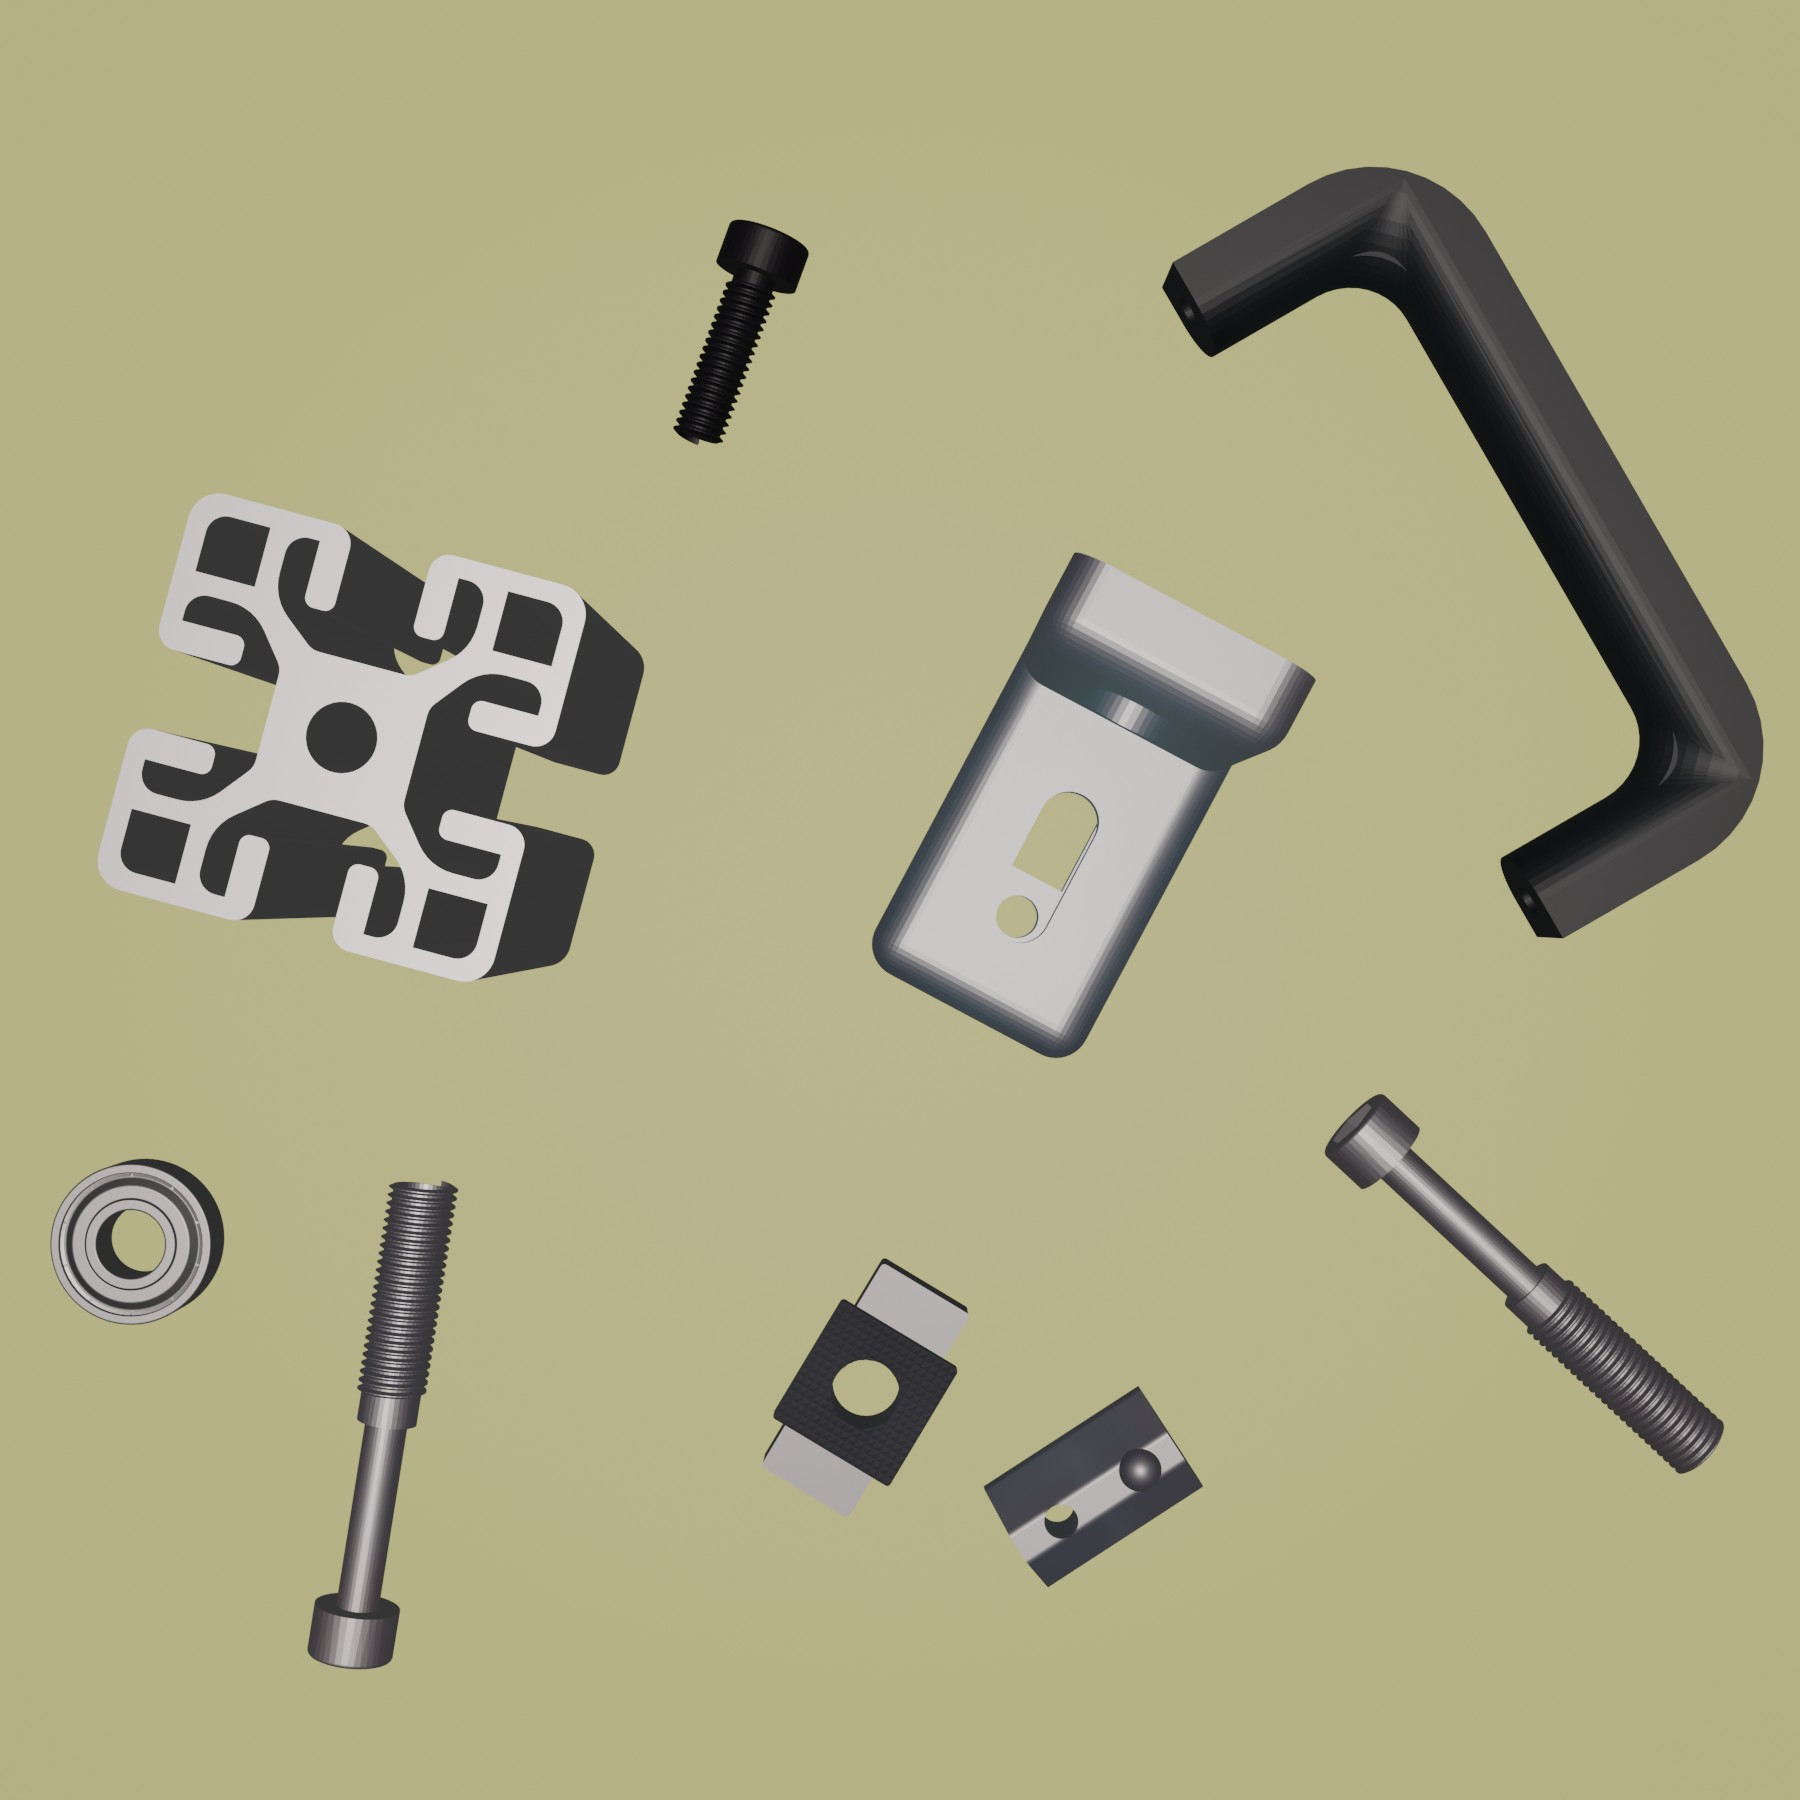Aluminium Extension: (92, 490, 645, 986)
Ball Bearing: (46, 1154, 227, 1329)
Multiwinkel: (870, 551, 1315, 1062)
Pull Handle: (1155, 162, 1765, 941)
Shoulder Socket Head Cap Screw: (1324, 1090, 1724, 1479), (305, 1172, 462, 1675)
Socket Head Cap Screw: (666, 216, 811, 450)
T Nut Square: (755, 1258, 974, 1520)
T Spring Nut: (981, 1380, 1205, 1591)
